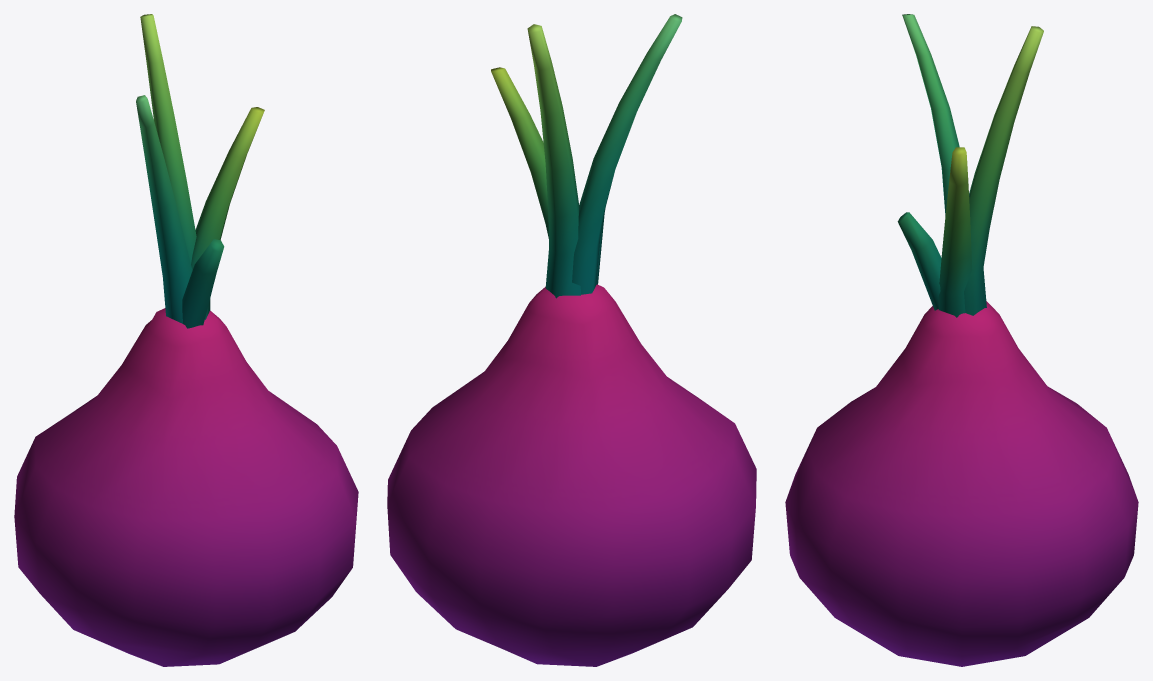
File: onion_001.fbx
3 views of the same model, side by side, from view 1: azimuth 30°, elevation 25°; view 2: azimuth 150°, elevation 25°; view 3: azimuth 270°, elevation 25° (orthographic). The views are drawn at different scales.
Parts seen in each view (by area): view 1: onion_001; view 2: onion_001; view 3: onion_001.
Part boxes in pixels (left/top/right/bottom): onion_001: left=14, top=14, right=358, bottom=666; onion_001: left=387, top=14, right=756, bottom=666; onion_001: left=785, top=14, right=1138, bottom=666.
Bounding box in the file's own units: 7.81 × 7.81 × 15.15.
